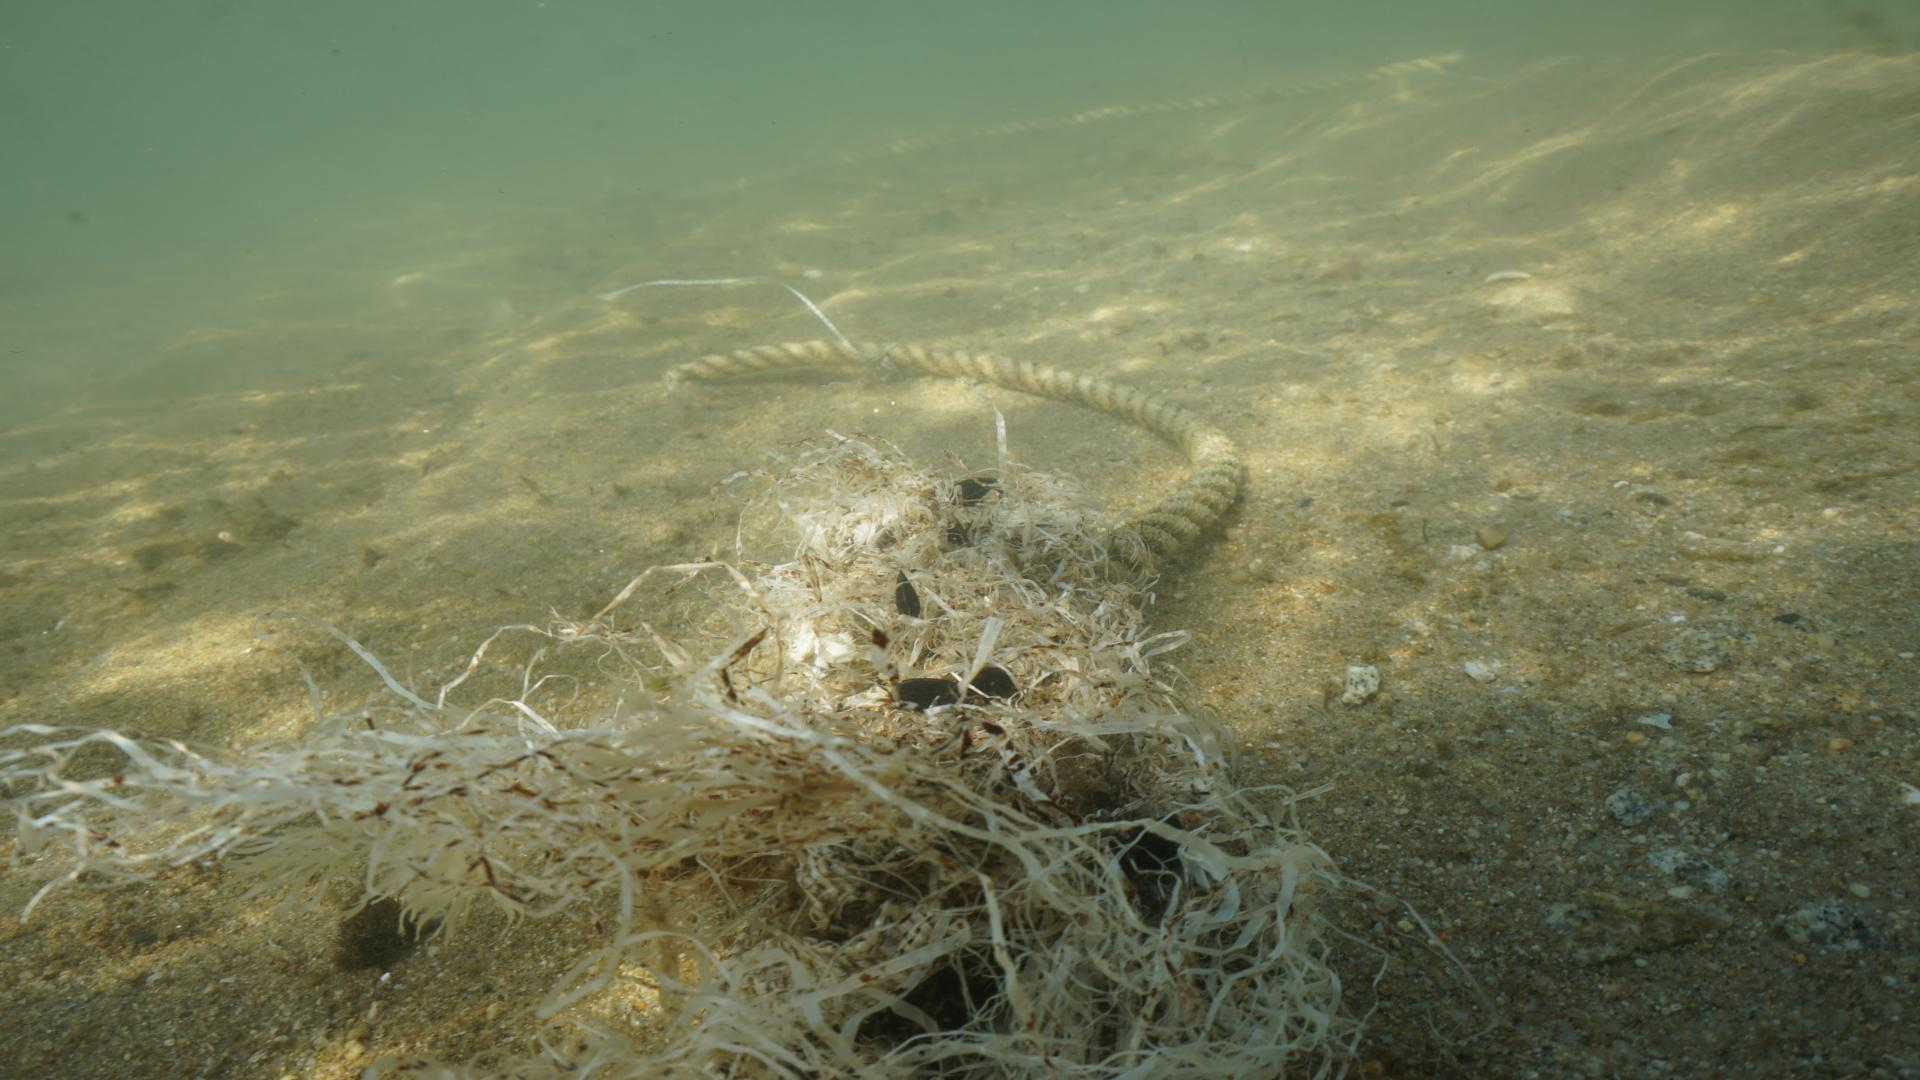rope: (665, 324, 1258, 580)
